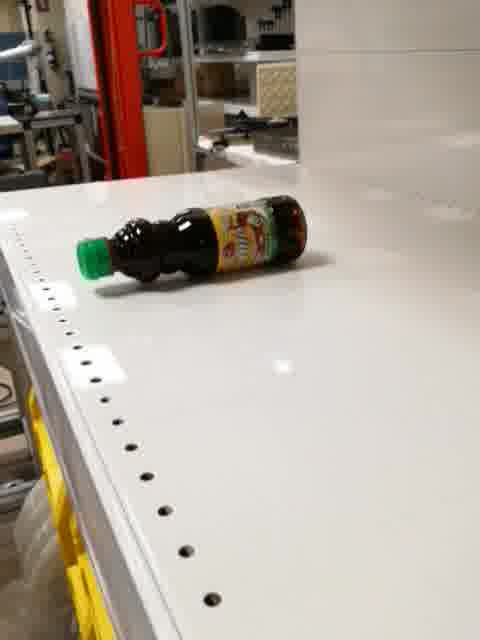cookingoil: (72, 194, 310, 287)
